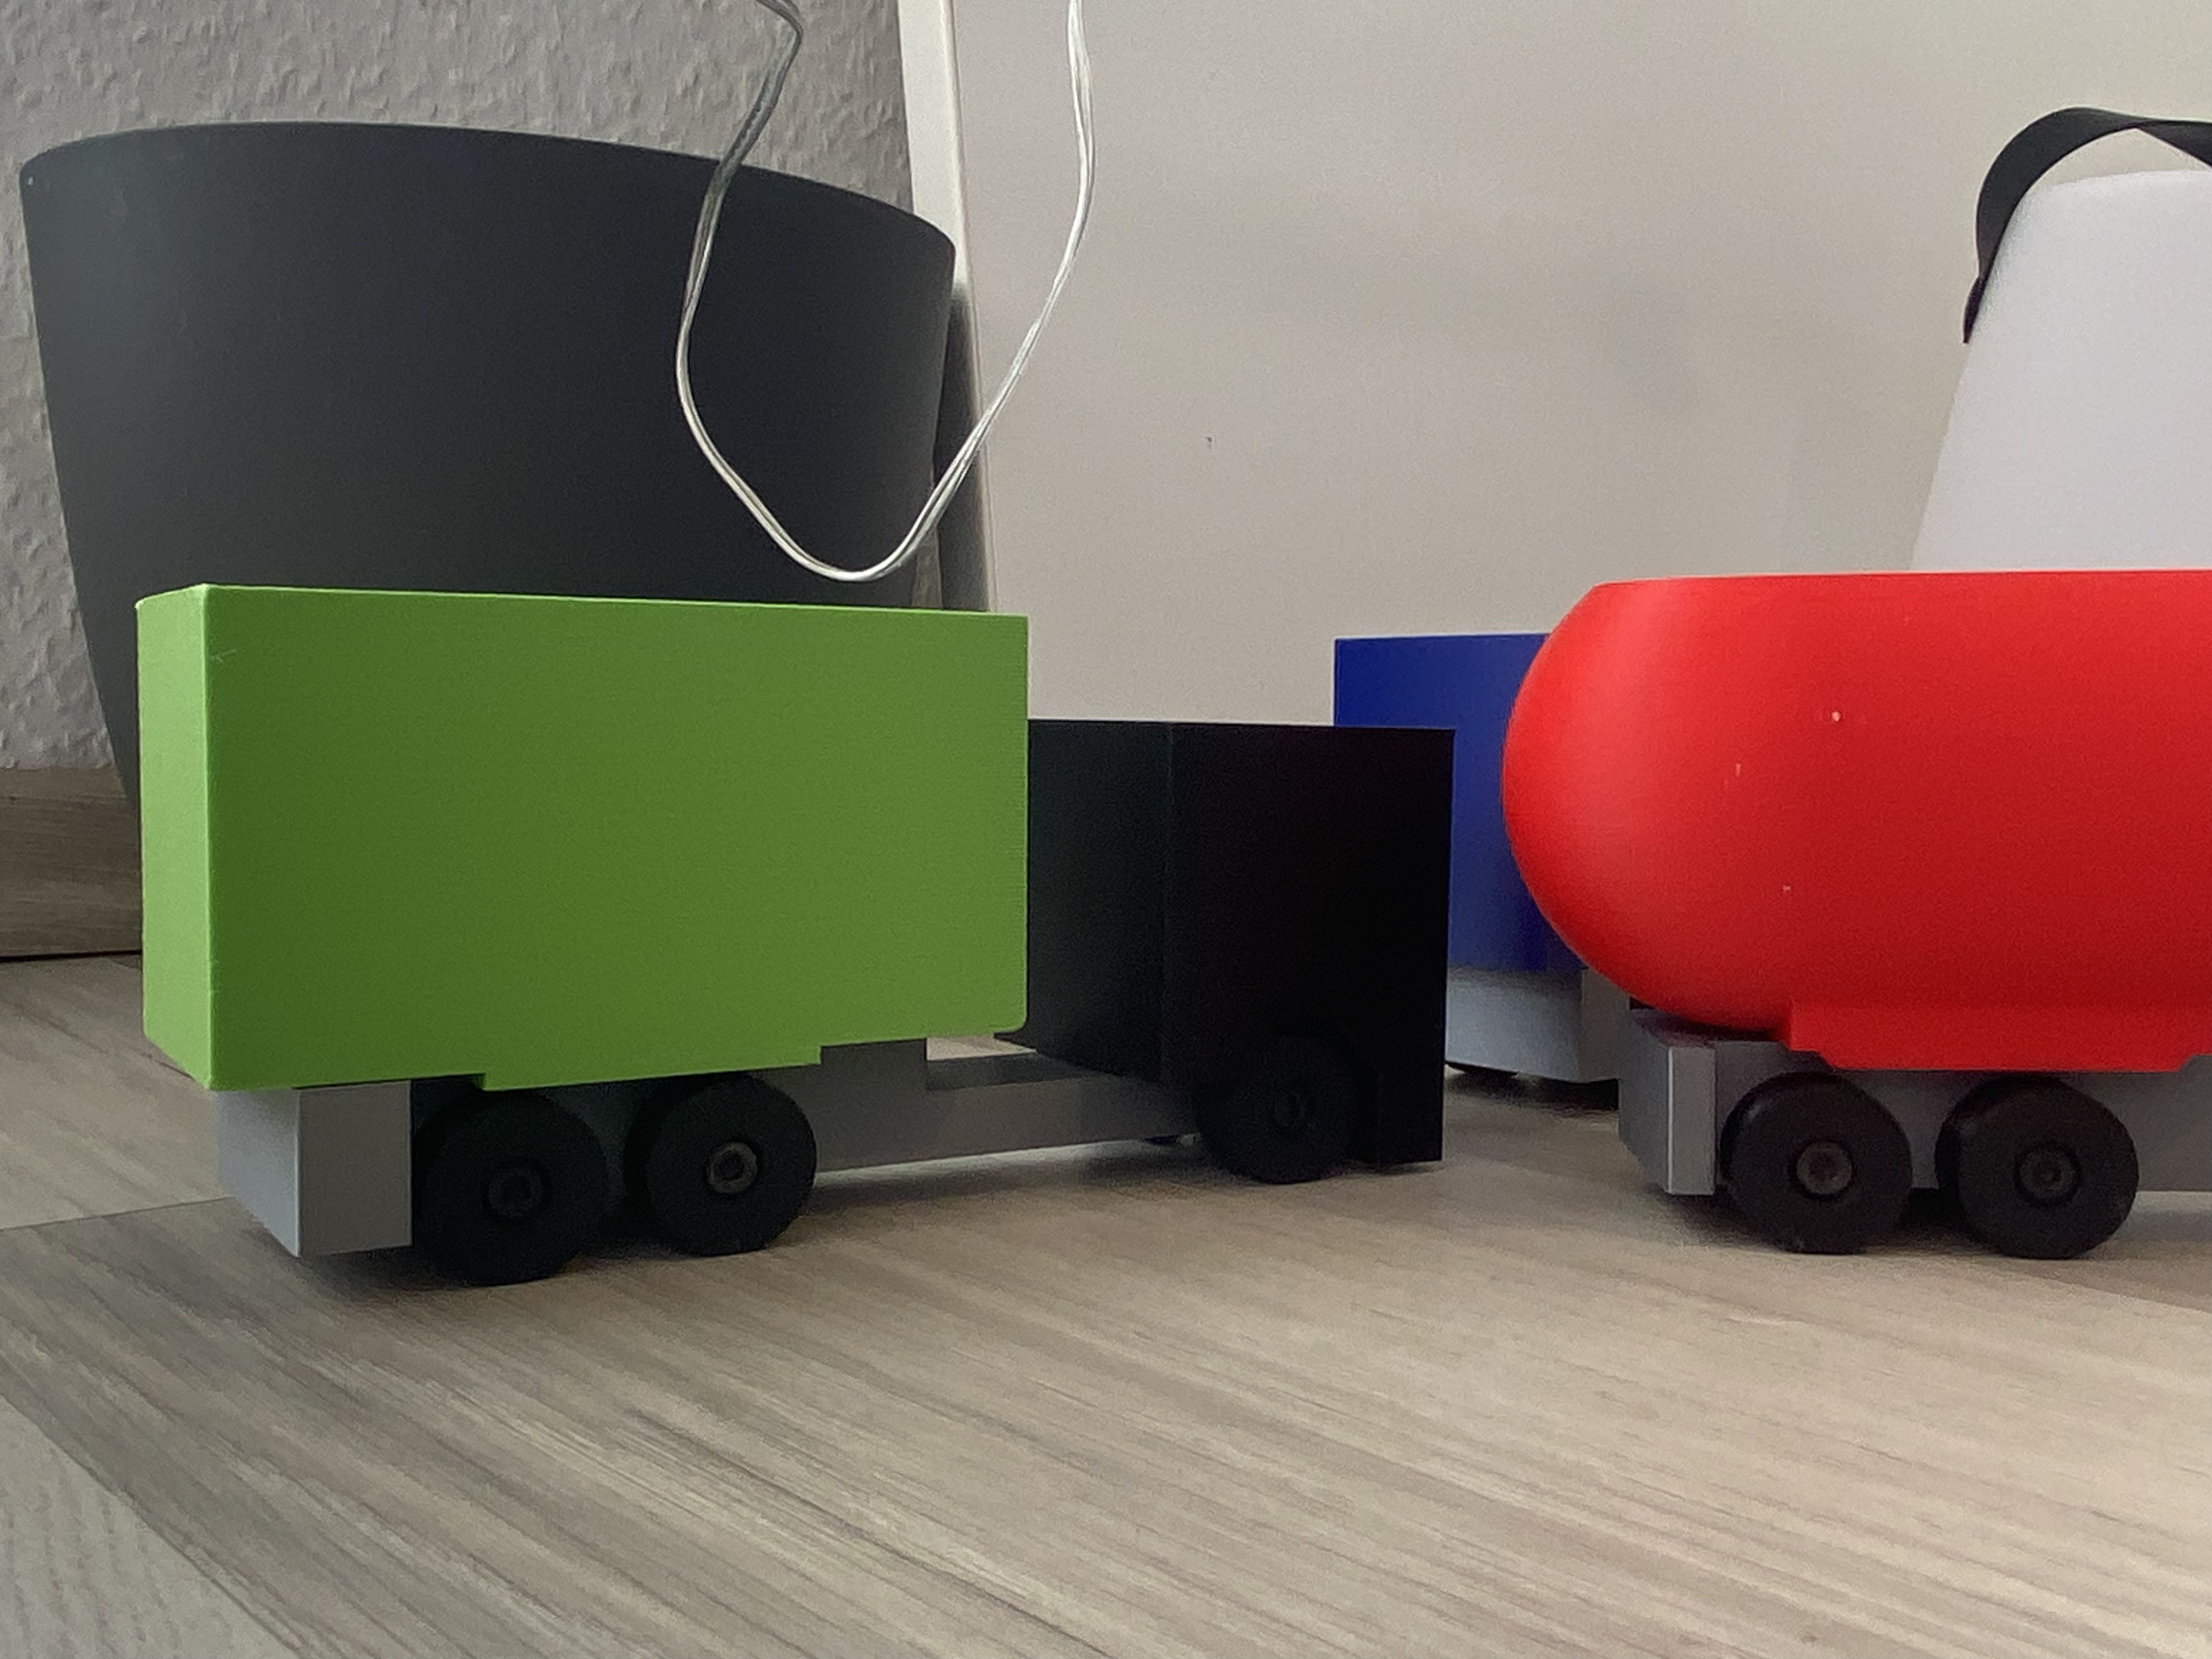blue_truck: (1334, 627, 1632, 1084)
green_truck: (80, 586, 1451, 1279)
red_truck: (1498, 559, 2212, 1265)
